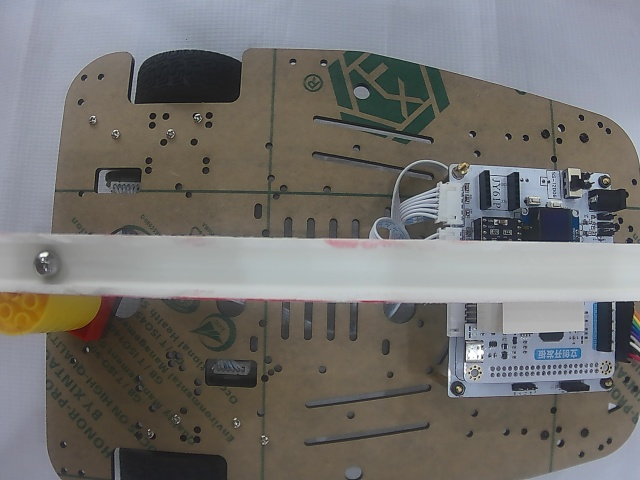steelball: (32, 250, 59, 275)
